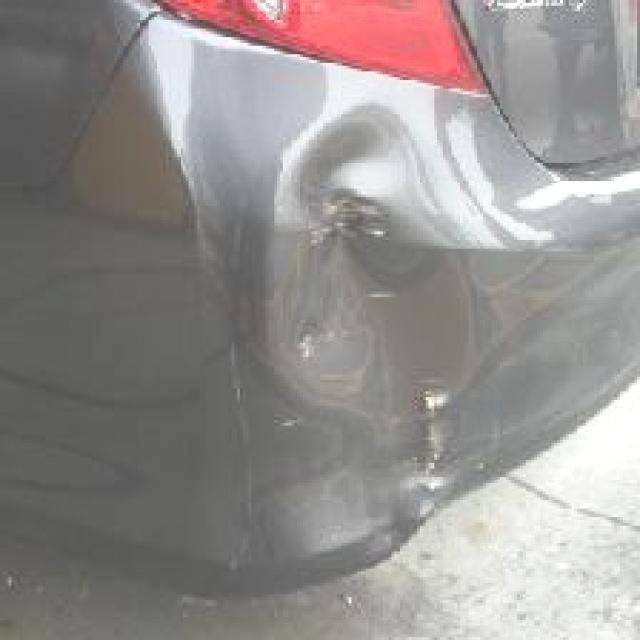minor: (211, 81, 513, 452)
